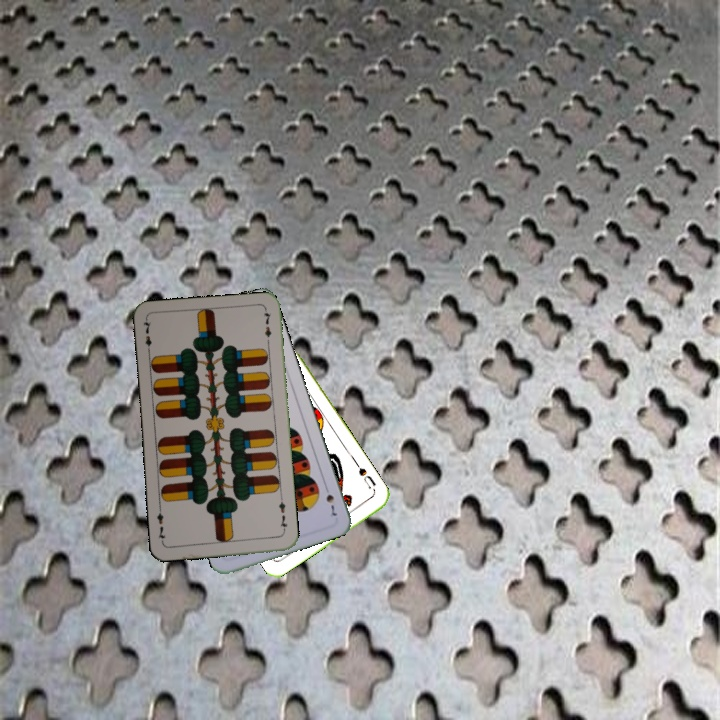E7: (139, 316, 154, 357), (275, 495, 290, 535)
S7: (321, 481, 340, 519)
SU: (352, 459, 378, 496)
